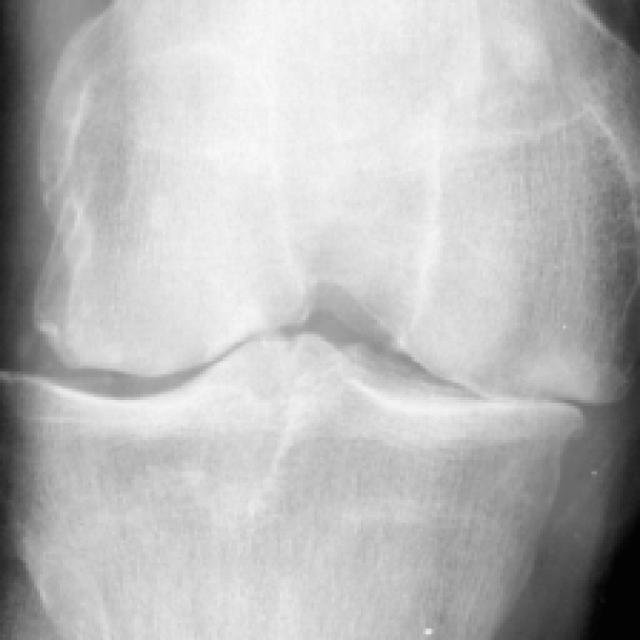femur: (31, 0, 640, 405)
tibia: (0, 328, 586, 637)
